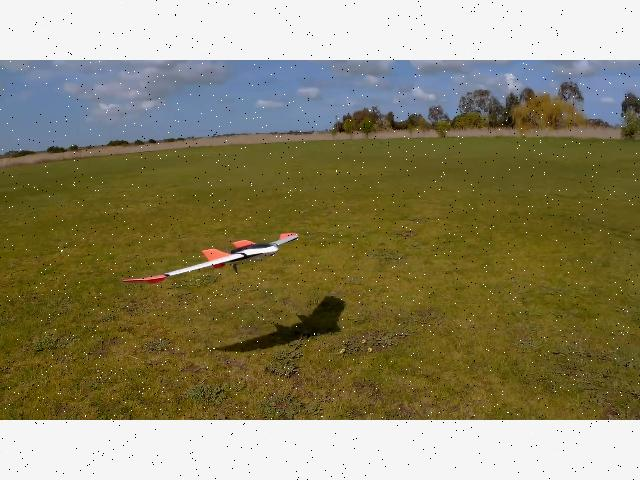Anti-Drone: (122, 233, 298, 283)
